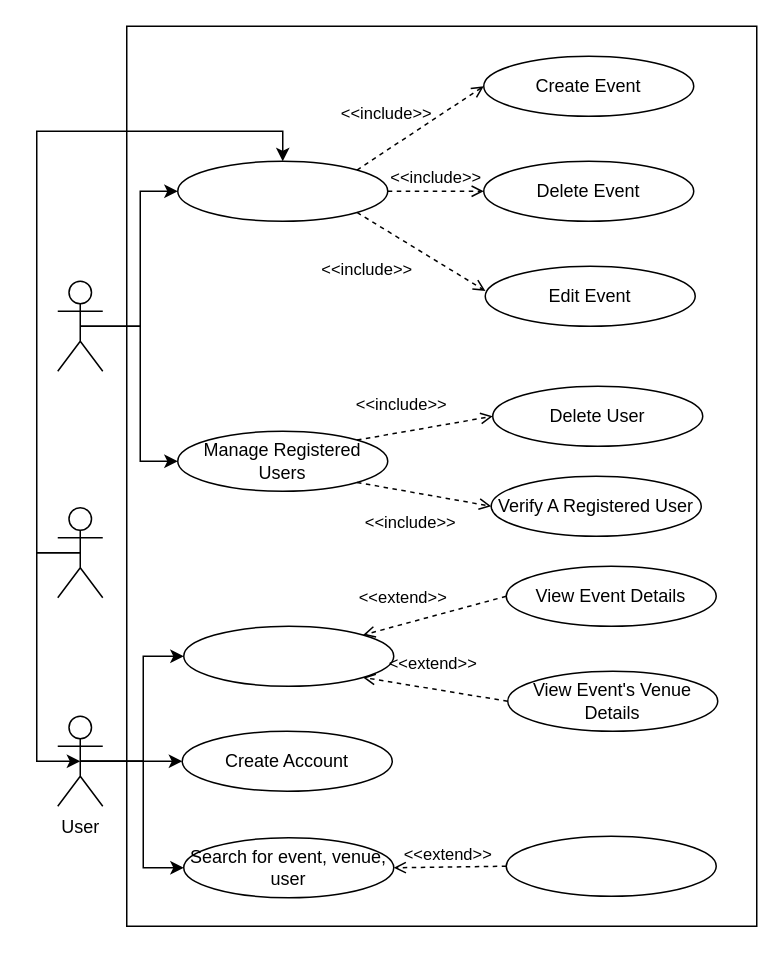
Image size: 783x953. Some labels were removed from this diagram. Here are the shapes that lost their labels. From the top down, the centre of each, then its label:
At (282,190): "Manage Event".
At (79,325): "Admin".
At (79,552): "Venue".
At (288,655): "View Available Events".
At (610,865): "Filter Available Events".
